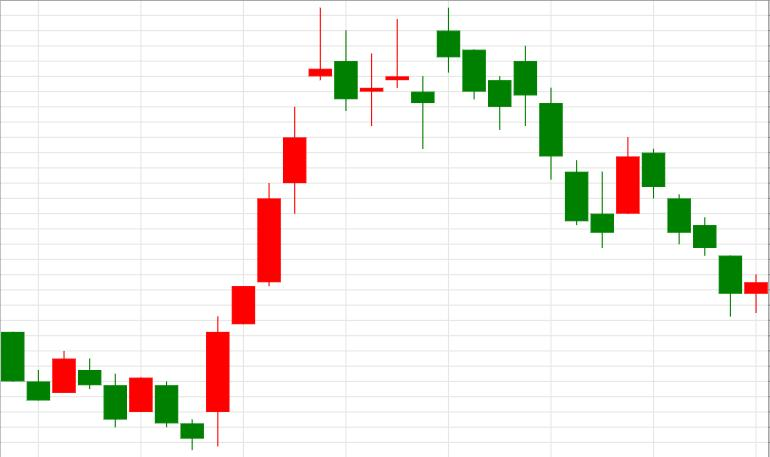hanging_man_fall: (79, 184, 280, 449)
